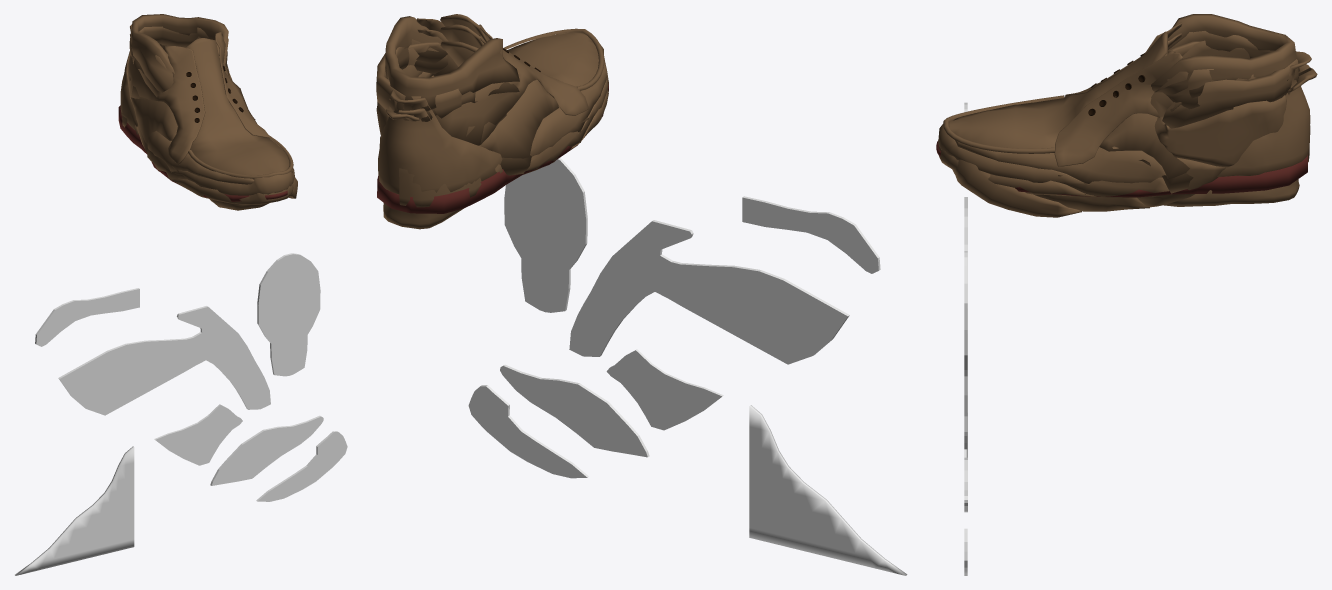
Rendered from joeliusceasar_joeliusceasar_trash_rattyshoe.dae.
The picture shows the model from 3 angles, left to right: view 1: azimuth 30°, elevation 25°; view 2: azimuth 150°, elevation 25°; view 3: azimuth 270°, elevation 25°; orthographic projection. The views are drawn at different scales.
Visible parts, largest first — view 1: Mesh_027, Mesh_001, Mesh_013, Mesh, Mesh_009, Mesh_024, Mesh_007, Mesh_002, Mesh_012, Mesh_018, Mesh_015, Mesh_021 (+1 smaller); view 2: Mesh_027, Mesh_001, Mesh_013, Mesh, Mesh_024, Mesh_009, Mesh_007, Mesh_002, Mesh_012, Mesh_021, Mesh_004, Mesh_020 (+5 smaller); view 3: Mesh_027, Mesh_005, Mesh_024, Mesh_004, Mesh_011, Mesh_021, Mesh_018, Mesh_006, Mesh_015, Mesh_016, Mesh_010, Mesh_008 (+2 smaller).
Boxes of the visible parts, box(x1,y1,x2,y2) form: Mesh_027: box(120, 24, 294, 195); Mesh_001: box(58, 306, 270, 415); Mesh_013: box(257, 253, 320, 376); Mesh: box(15, 446, 134, 575); Mesh_009: box(210, 415, 323, 485); Mesh_024: box(131, 14, 228, 92); Mesh_007: box(154, 404, 242, 465); Mesh_002: box(35, 288, 139, 346); Mesh_012: box(256, 431, 347, 501); Mesh_018: box(131, 26, 228, 97); Mesh_015: box(167, 177, 293, 204); Mesh_021: box(118, 105, 287, 201); Mesh_027: box(378, 14, 608, 194); Mesh_001: box(569, 220, 849, 364); Mesh_013: box(504, 158, 587, 312); Mesh: box(749, 405, 907, 575); Mesh_024: box(385, 16, 519, 111); Mesh_009: box(500, 364, 649, 457); Mesh_007: box(606, 349, 723, 430); Mesh_002: box(742, 196, 880, 273); Mesh_012: box(468, 385, 588, 478); Mesh_021: box(377, 83, 608, 213); Mesh_004: box(376, 48, 461, 118); Mesh_020: box(398, 108, 502, 207); Mesh_027: box(938, 22, 1311, 185); Mesh_005: box(1150, 41, 1286, 167); Mesh_024: box(1151, 14, 1299, 98); Mesh_004: box(1162, 40, 1298, 128); Mesh_011: box(952, 159, 1081, 217); Mesh_021: box(936, 140, 1307, 197); Mesh_018: box(1155, 31, 1298, 109); Mesh_006: box(1163, 67, 1317, 206); Mesh_015: box(939, 146, 1097, 196); Mesh_016: box(1061, 177, 1172, 197); Mesh_010: box(1033, 194, 1149, 211); Mesh_008: box(1137, 157, 1225, 207).
Bounding box in the file's own units: 5.62 × 4.28 × 6.75.
